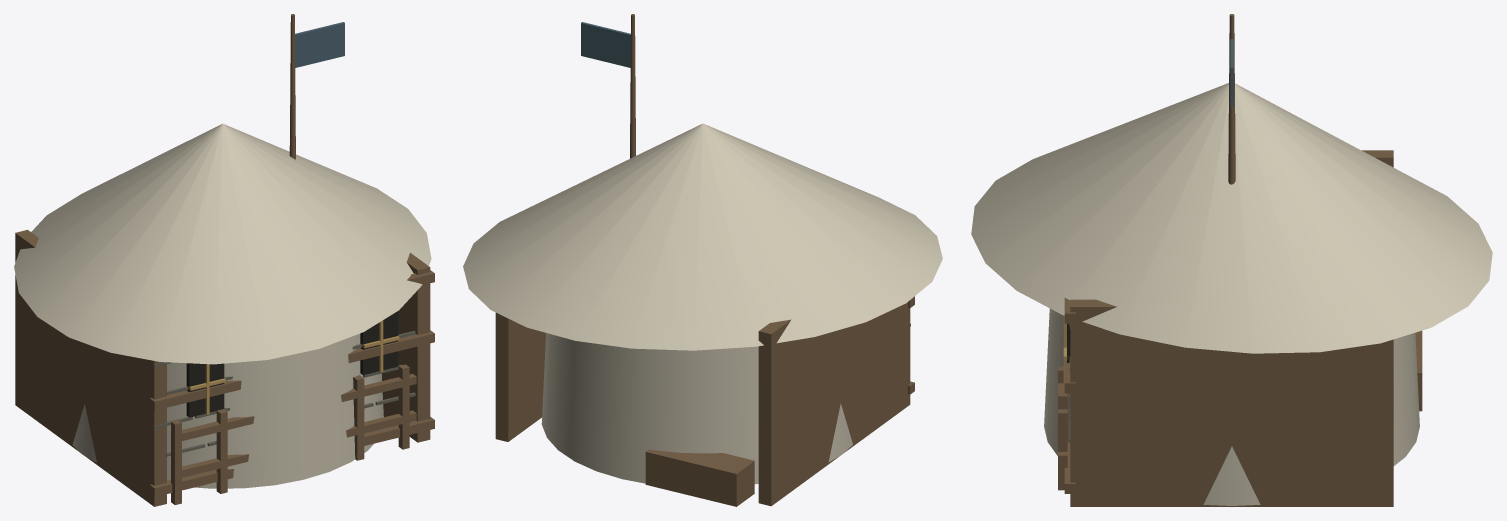
File: b-stable-steppe.glb
3 renders of one model, left to right at view 1: azimuth 30°, elevation 25°; view 2: azimuth 150°, elevation 25°; view 3: azimuth 270°, elevation 25°, orthographic. The views are drawn at different scales.
Parts seen in each view (by area): view 1: Structure; view 2: Structure; view 3: Structure.
Boxes of the visible parts, <box> form: Structure: <box>14,14,434,506</box>; Structure: <box>463,14,942,506</box>; Structure: <box>971,14,1492,506</box>.
Bounding box in the file's own units: 5.55 × 5.33 × 5.55.
